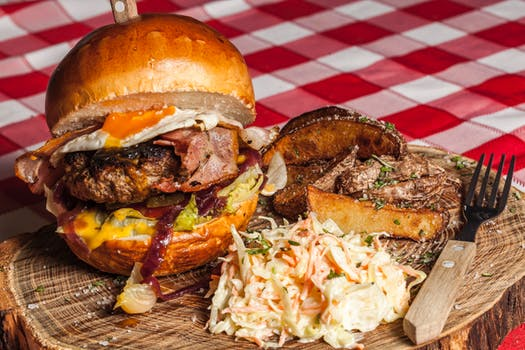hamburger: (37, 13, 280, 284)
